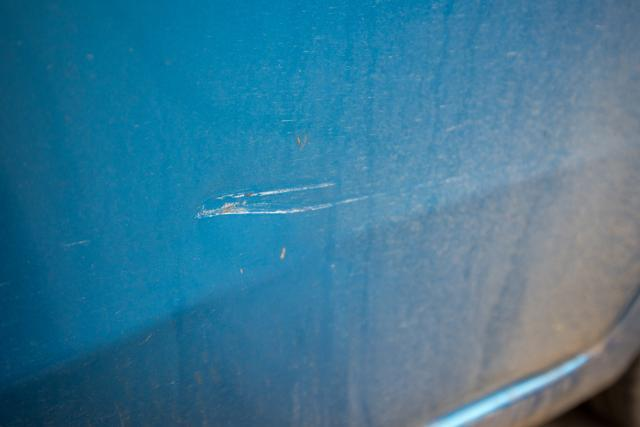scratch: (189, 180, 376, 223)
